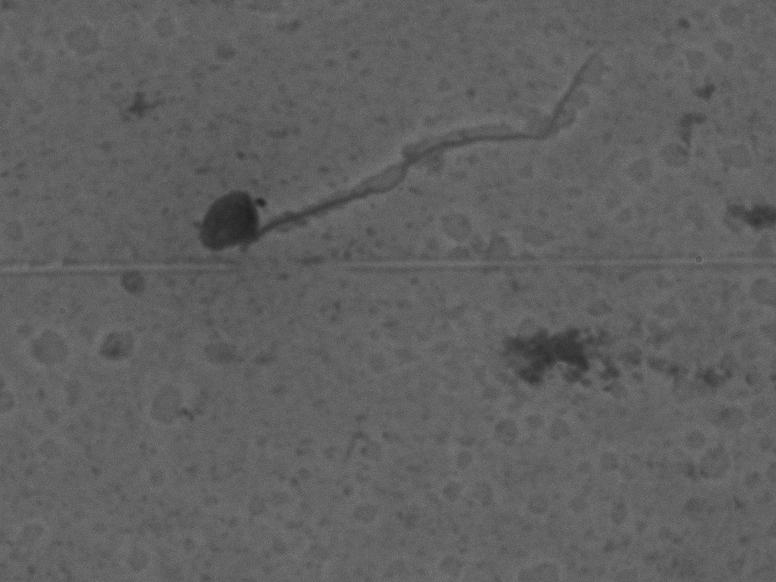Abnormal: (172, 45, 631, 269)
